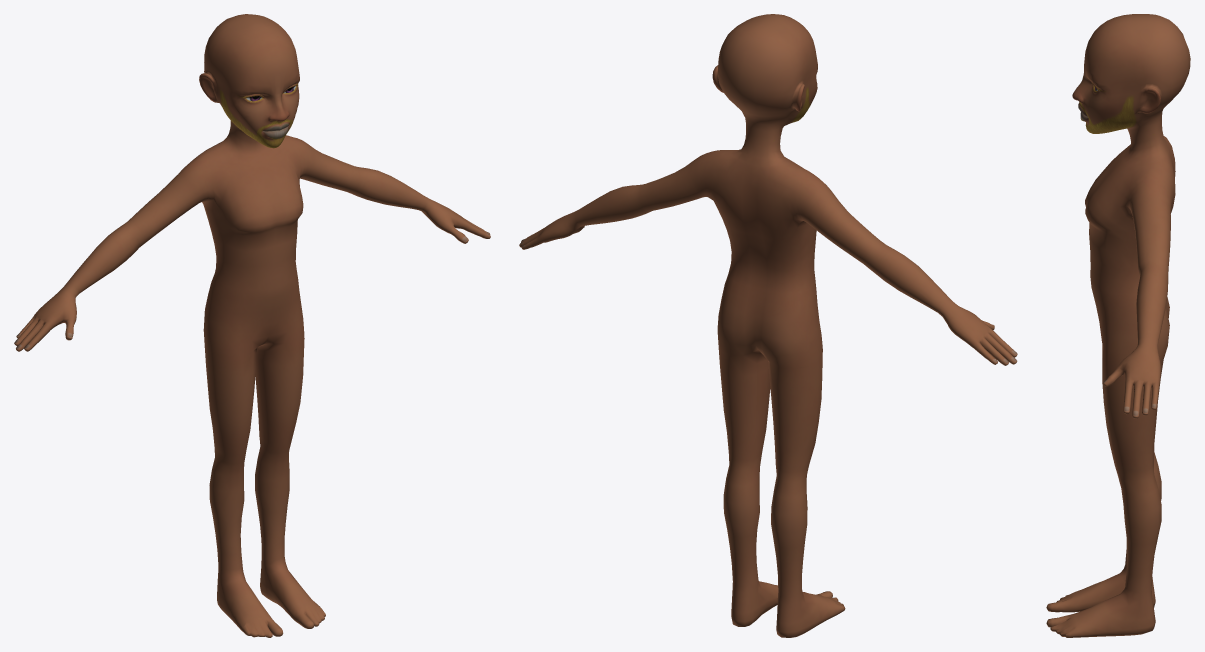
The model's file is frame_0011.glb.
3 views of the same model, side by side, from view 1: azimuth 30°, elevation 25°; view 2: azimuth 150°, elevation 25°; view 3: azimuth 270°, elevation 25° (orthographic). The views are drawn at different scales.
Parts seen in each view (by area): view 1: frame_0011_head_geo; view 2: frame_0011_head_geo; view 3: frame_0011_head_geo.
Boxes of the visible parts, box(x1,y1,x2,y2) form: frame_0011_head_geo: box(14, 14, 490, 637); frame_0011_head_geo: box(519, 14, 1017, 637); frame_0011_head_geo: box(1046, 14, 1190, 637).
Bounding box in the file's own units: 1.28 × 1.5 × 0.3253.
3 materials, 3 textured.
